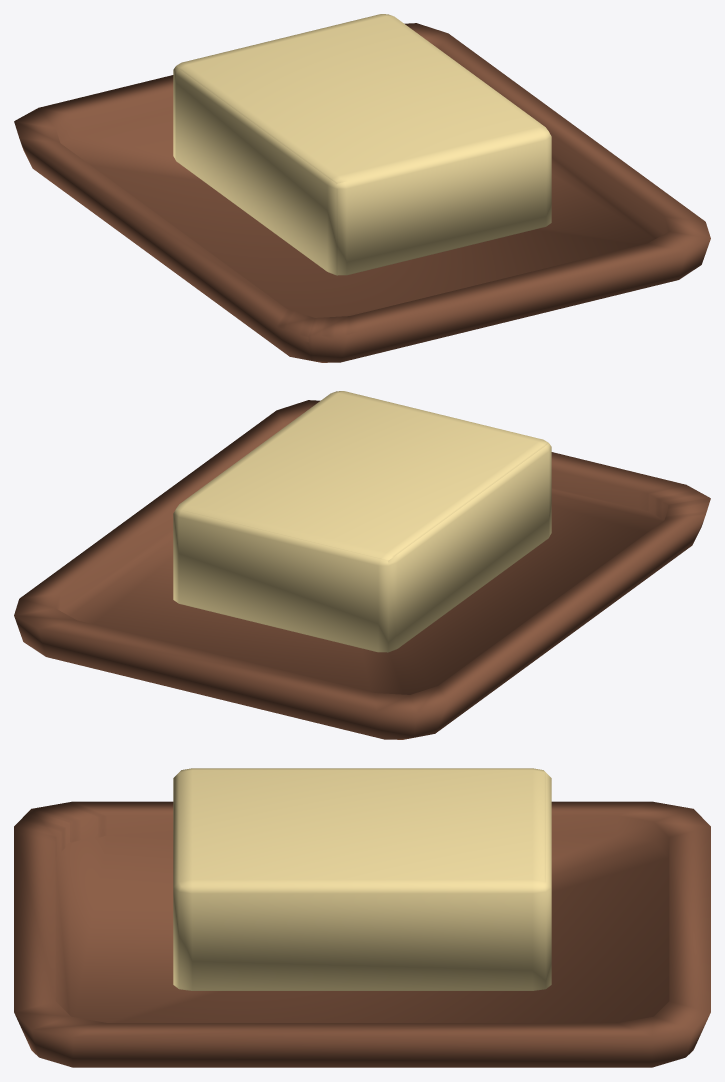
The model's file is butter.fbx.
3 renders of one model, top to bottom at view 1: azimuth 30°, elevation 25°; view 2: azimuth 150°, elevation 25°; view 3: azimuth 270°, elevation 25°, orthographic. The views are drawn at different scales.
Parts seen in each view (by area): view 1: butter; view 2: butter; view 3: butter.
Boxes of the visible parts, x1,y1,x2,y2 form: butter: (14, 14, 710, 362); butter: (14, 391, 710, 739); butter: (14, 768, 710, 1067).
Size of the model in its own units: 0.0772 by 0.0226 by 0.0965.
